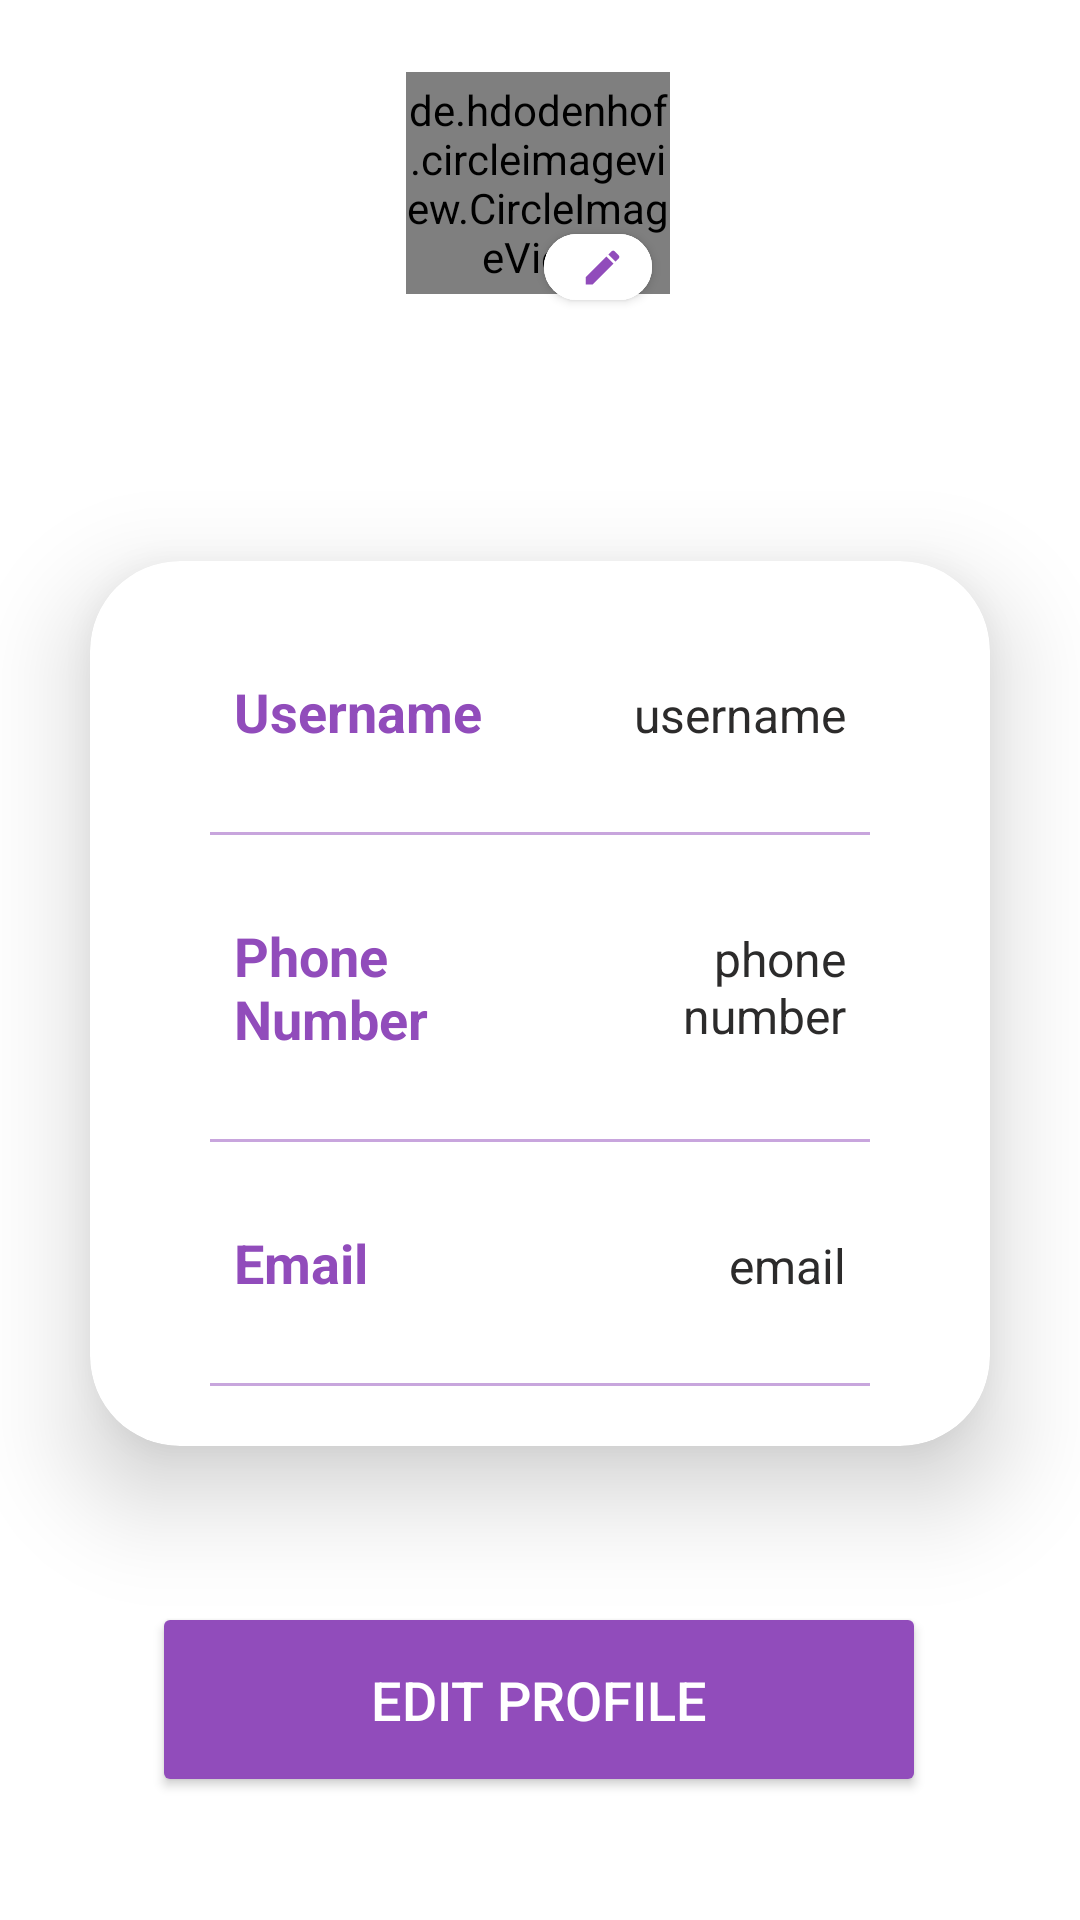

Screen size 1080x1920. Icon name, then its box in pixels as (x1, y1, x2, y2):
edit pic: (544, 234, 652, 300)
